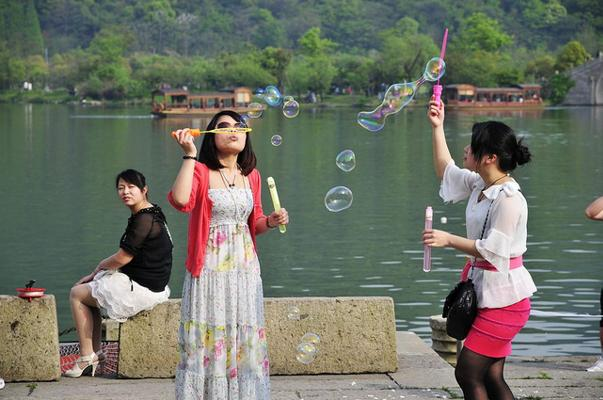person: (168, 110, 290, 400)
